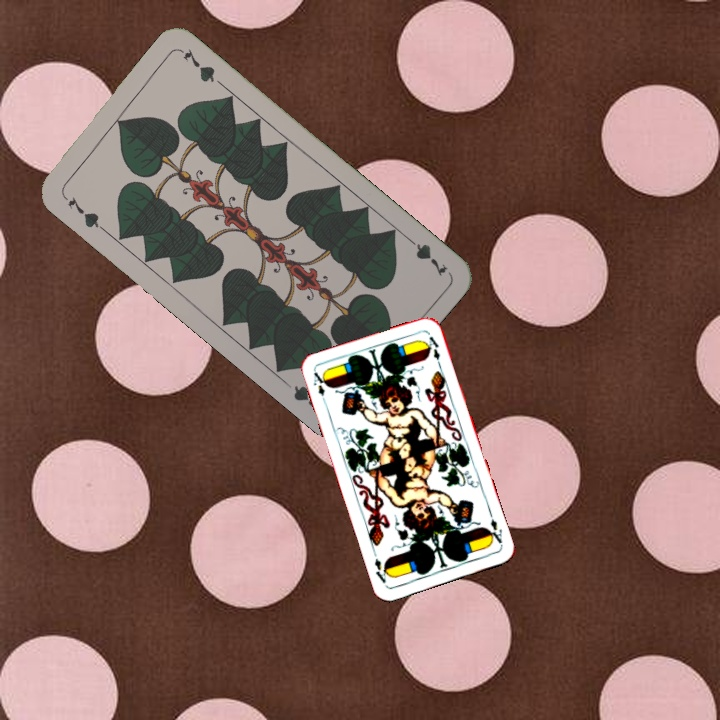EA: (309, 368, 330, 407), (483, 515, 505, 548)
G7: (401, 232, 450, 279), (64, 193, 107, 234)
